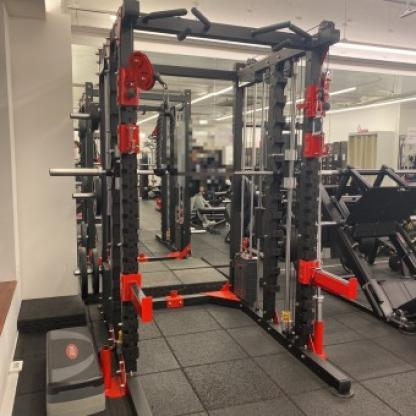smith machine: (98, 1, 356, 416)
